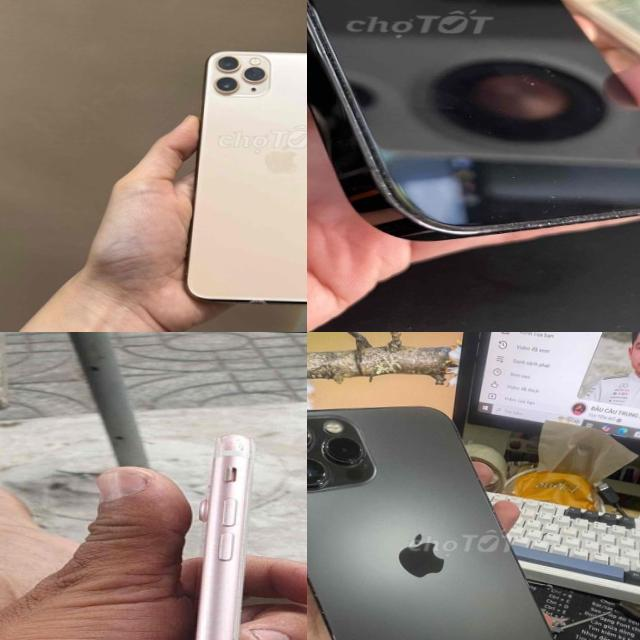gen_11: (185, 50, 307, 303)
gen_12_13: (307, 397, 573, 640)
gen_14: (307, 0, 640, 245)
gen_7_8: (172, 429, 262, 640)
scratch: (350, 108, 421, 240), (474, 201, 640, 242), (215, 615, 243, 640), (229, 436, 249, 454)
